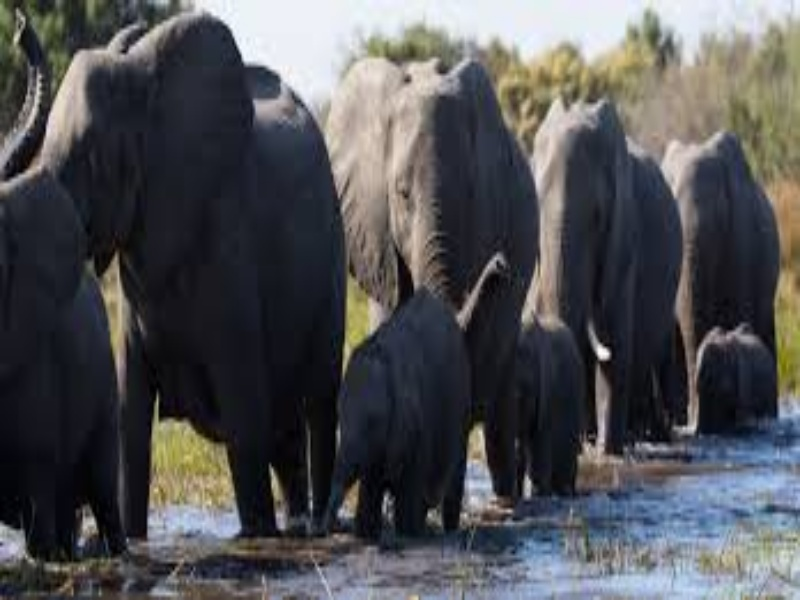elephant: (340, 68, 555, 524)
